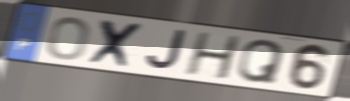6: (287, 42, 332, 92)
H: (182, 31, 242, 81)
J: (144, 28, 188, 73)
O: (45, 15, 93, 62)
Q: (235, 38, 287, 86)
X: (86, 18, 148, 71)
